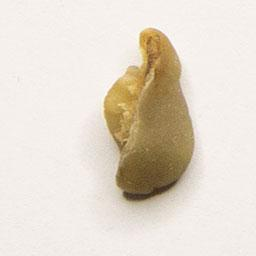defect: (101, 23, 198, 202)
